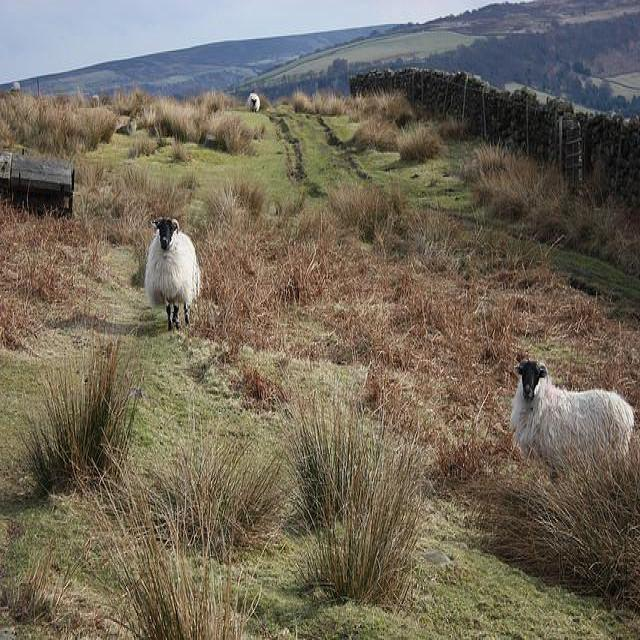Sheep: (511, 360, 634, 451), (145, 217, 202, 330)
